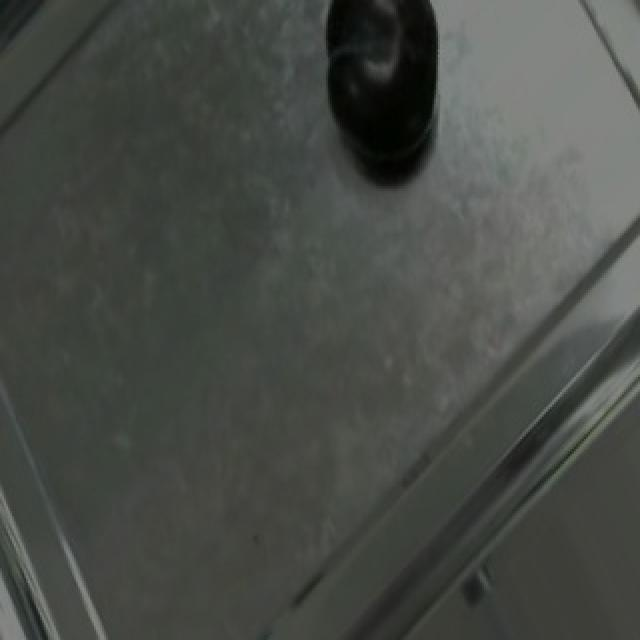Fruit: (302, 0, 460, 181)
